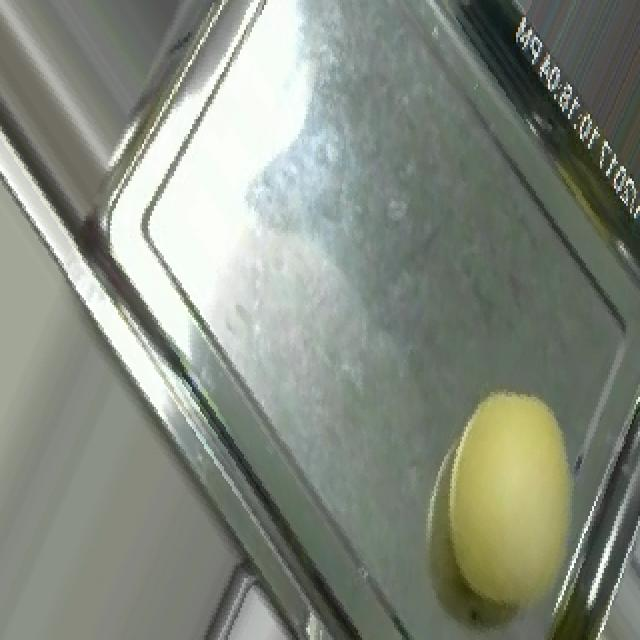Fruit: (392, 362, 628, 638)
